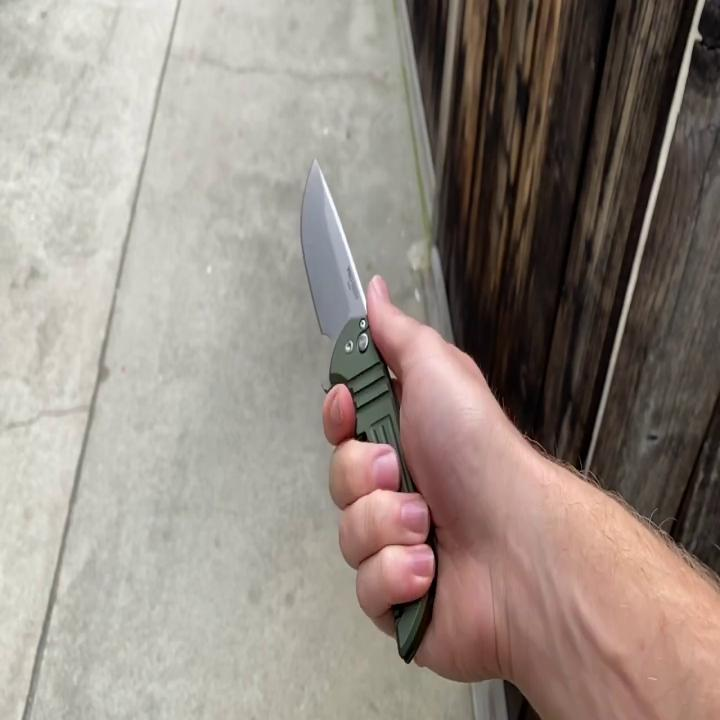knife: (297, 151, 442, 671)
